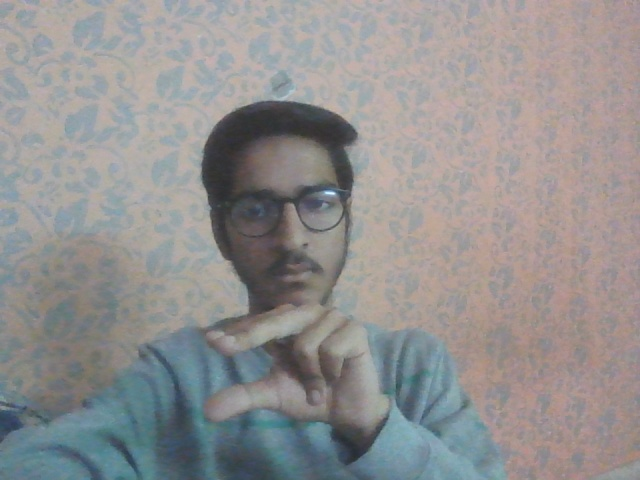No: (199, 298, 390, 436)
